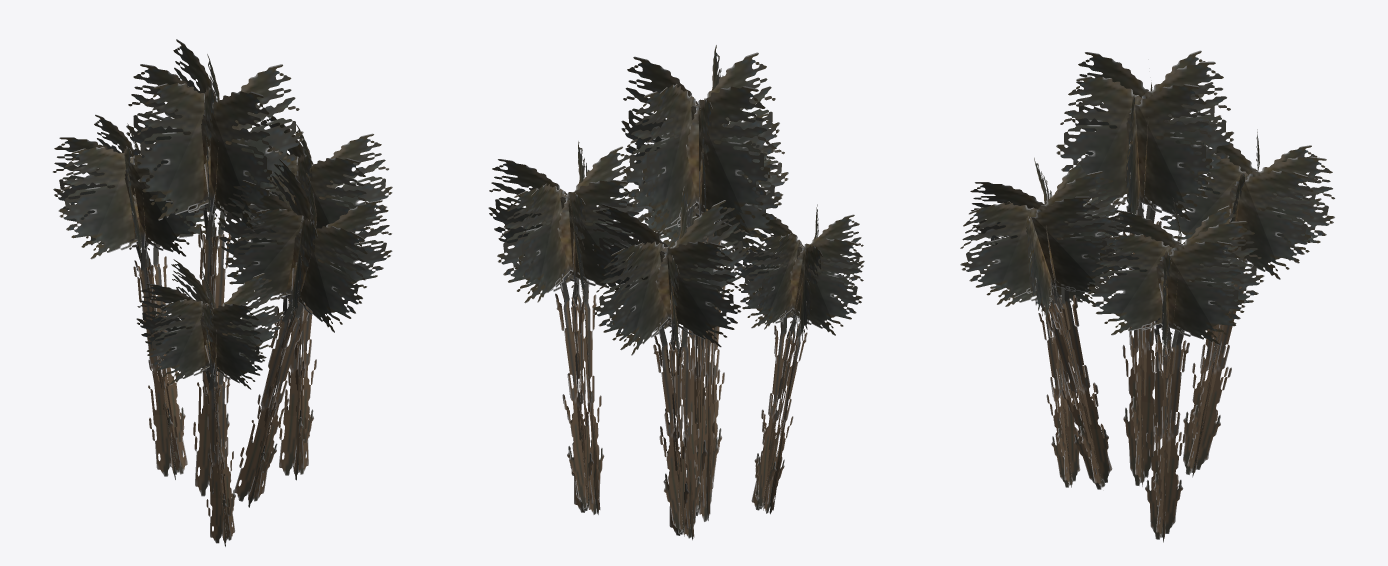
File: Planter_006.fbx
3 views of the same model, side by side, from view 1: azimuth 30°, elevation 25°; view 2: azimuth 150°, elevation 25°; view 3: azimuth 270°, elevation 25° (orthographic). The views are drawn at different scales.
Parts seen in each view (by area): view 1: Planters_006; view 2: Planters_006; view 3: Planters_006.
Boxes of the visible parts, bbox=[...] form: Planters_006: bbox=[53, 39, 392, 546]; Planters_006: bbox=[488, 45, 864, 540]; Planters_006: bbox=[960, 50, 1334, 542].
Size of the model in its own units: 115 by 143 by 129.
